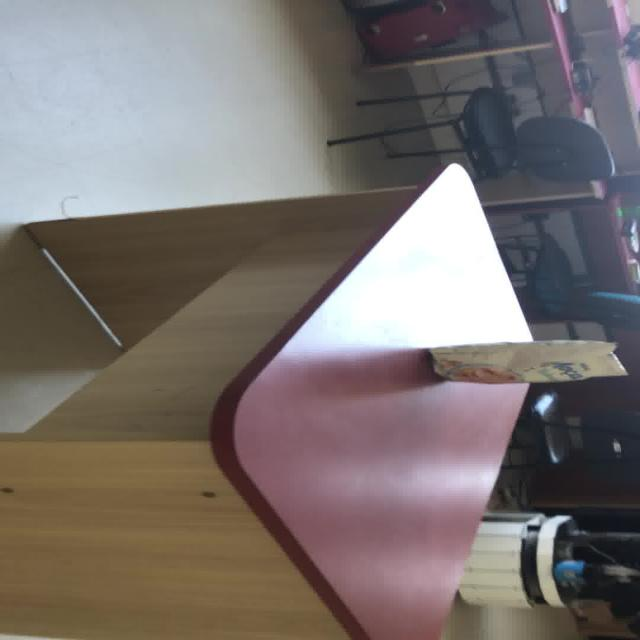corn flakes: (426, 338, 628, 384)
